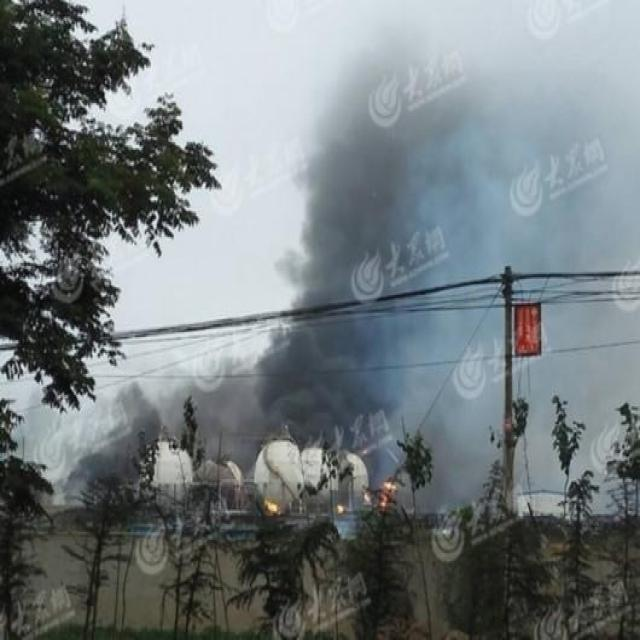Fire: (362, 482, 396, 506), (262, 498, 279, 513)
Smoke: (84, 49, 504, 488)
